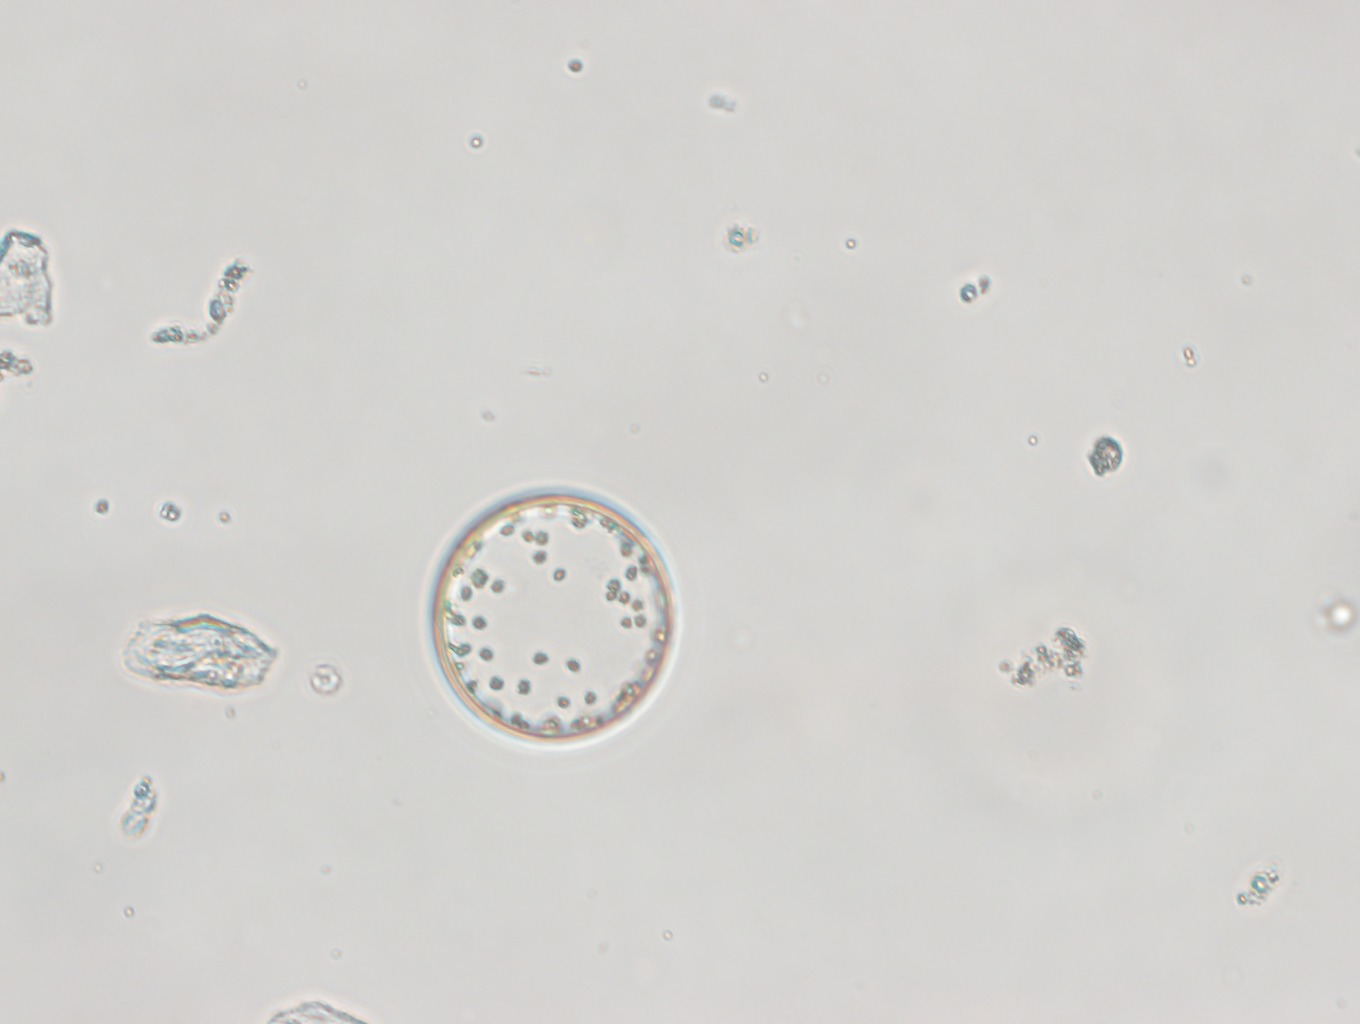coscinodiscus: (423, 483, 682, 746)
